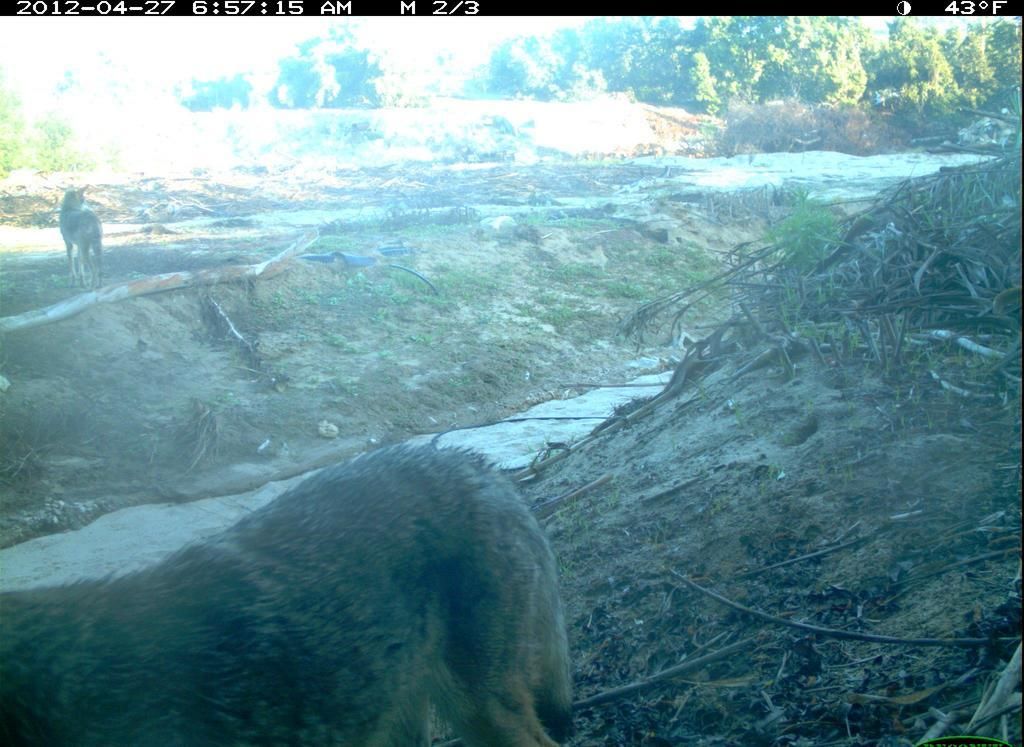coyote: (2, 428, 583, 745), (57, 181, 113, 286)
